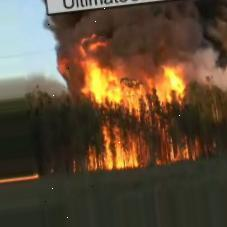fire: (77, 41, 189, 107), (87, 123, 197, 174)
smoke: (41, 12, 188, 41), (188, 0, 227, 90), (47, 41, 76, 89)
